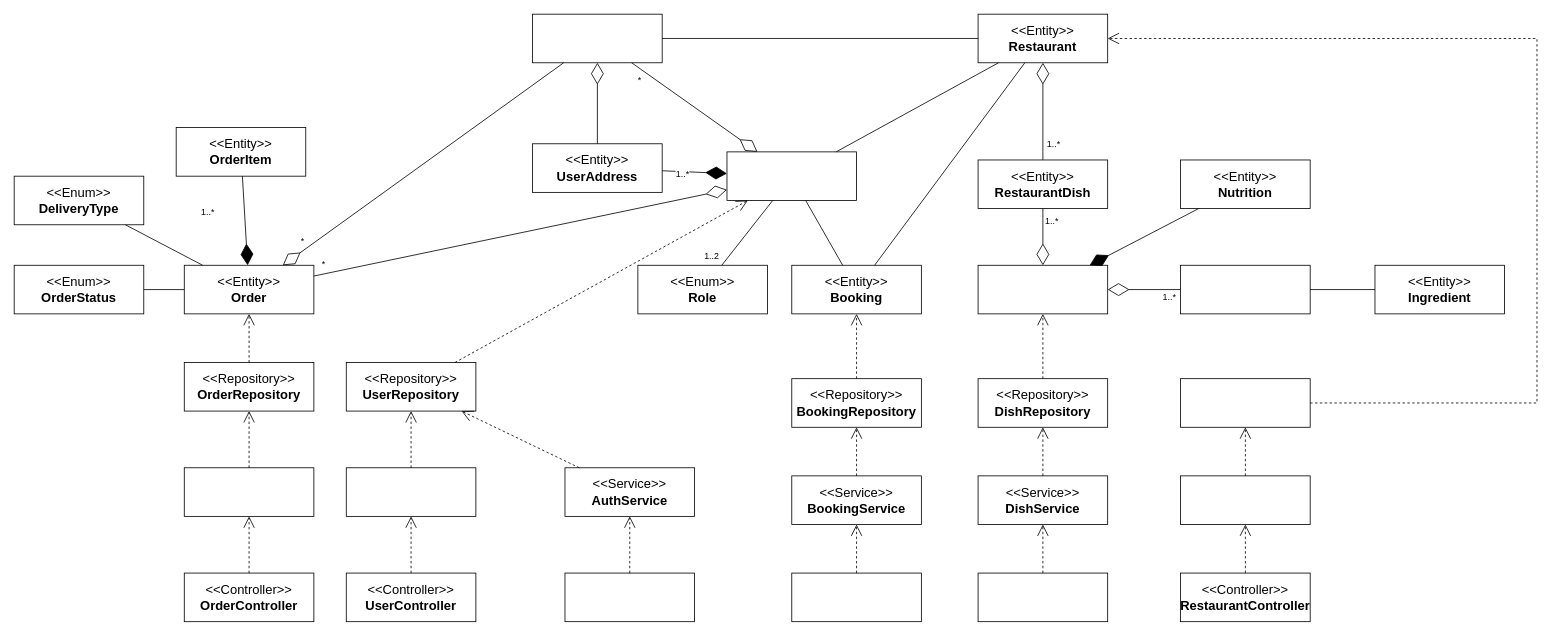
The diagram is 1562 pixels wide and 636 high, and some of its shapes have lost their labels. The box of each missing label's shape, as (x1, y1, x2, y2) in pixels:
<<Controller>> AuthController: (564, 572, 695, 622)
<<Controller>> BookingController: (791, 572, 921, 622)
<<Controller>> DishController: (977, 572, 1108, 622)
<<Entity>> Address: (532, 13, 662, 63)
<<Entity>> Dish: (977, 264, 1108, 314)
<<Entity>> DishIngredient: (1180, 264, 1310, 314)
<<Entity>> User: (726, 151, 857, 200)
<<Repository>> RestaurantRepository: (1180, 378, 1310, 427)
<<Service>> OrderService: (183, 467, 314, 516)
<<Service>> RestaurantService: (1180, 475, 1310, 524)
<<Service>> UserService: (345, 467, 476, 516)
